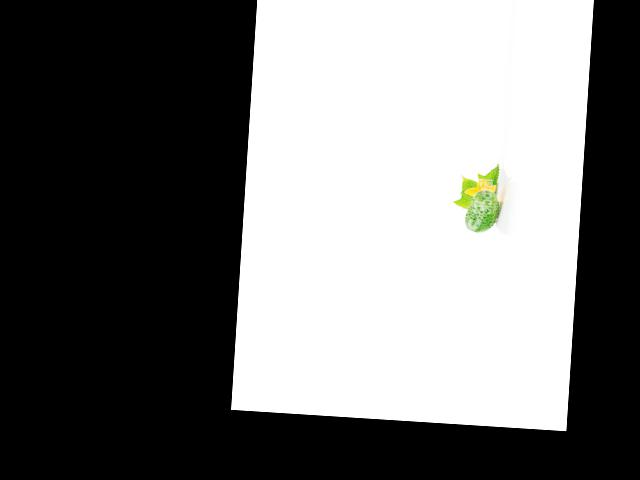cucumber: (464, 190, 500, 234)
